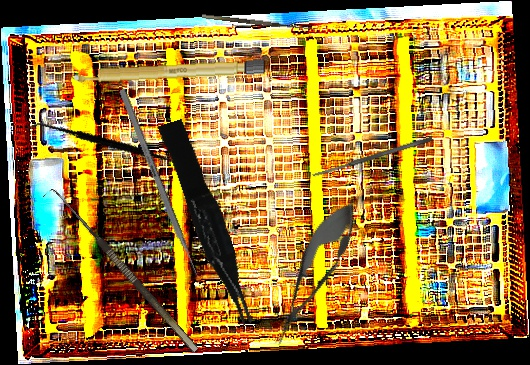Hook Surgical: (42, 184, 199, 361), (201, 8, 317, 32)
Micro Scissor: (259, 190, 370, 354)
Pusher: (117, 88, 207, 292)
Scalpel Handle: (68, 58, 267, 85)
Spatula Surgical: (25, 80, 195, 209), (311, 135, 434, 179)
Tissue Forceps: (157, 115, 258, 332)
